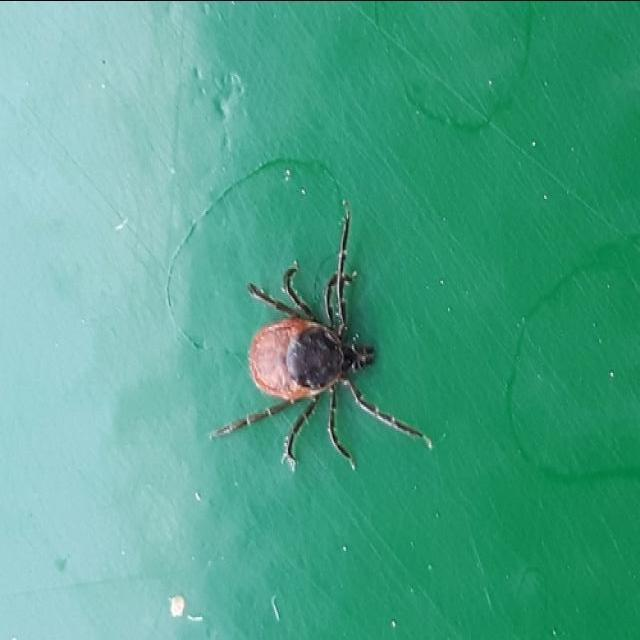Ixodes Ricinus-F: (219, 203, 417, 463)
